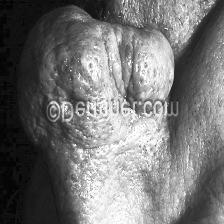Non-Cancerous Skin Condition: (44, 131, 186, 224), (23, 14, 189, 79), (21, 90, 47, 130)
